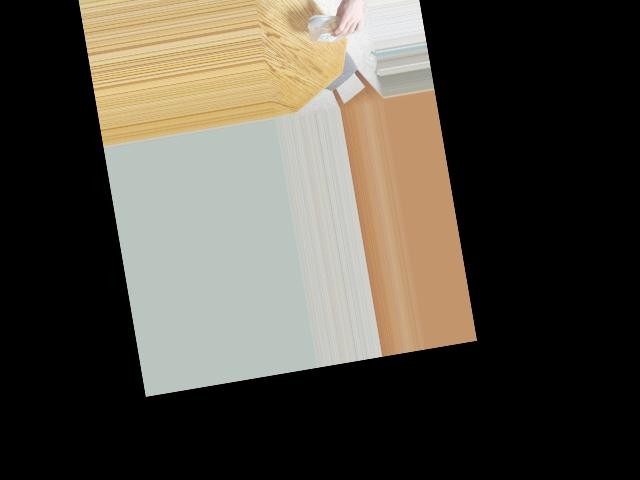cheese: (313, 6, 355, 45)
